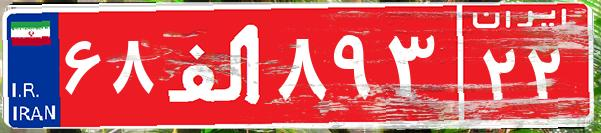2: (475, 38, 525, 113), (525, 38, 570, 115)
3: (385, 28, 445, 110)
6: (57, 26, 110, 107)
8: (273, 28, 330, 110), (110, 28, 158, 105)
9: (330, 28, 385, 110)
الف: (158, 15, 273, 115)
